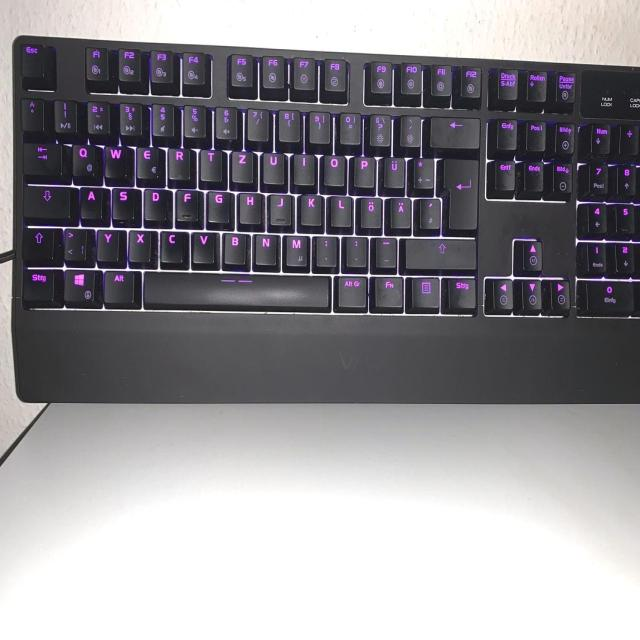0: (337, 108, 360, 143)
1: (51, 96, 76, 131)
2: (84, 97, 109, 134)
3: (117, 97, 141, 135)
4: (150, 99, 173, 135)
5: (181, 101, 205, 136)
6: (213, 103, 237, 138)
7: (244, 104, 268, 140)
8: (276, 105, 300, 141)
9: (306, 107, 329, 142)
a: (78, 183, 101, 218)
accent: (398, 111, 420, 145)
ae: (388, 193, 410, 227)
alt-left: (101, 266, 133, 301)
altgr-right: (334, 272, 366, 307)
b: (221, 228, 246, 263)
c: (157, 227, 185, 262)
caret: (19, 93, 42, 128)
comma: (313, 232, 336, 264)
d: (142, 184, 167, 219)
del: (428, 112, 479, 146)
e: (134, 143, 159, 178)
enter: (439, 155, 477, 228)
f: (174, 186, 198, 220)
g: (205, 187, 228, 221)
h: (236, 189, 260, 222)
hash: (417, 193, 439, 227)
i: (291, 150, 314, 183)
j: (267, 190, 290, 224)
k: (298, 190, 321, 223)
keyboard: (7, 37, 640, 324)
l: (328, 192, 351, 225)
less: (61, 224, 86, 260)
m: (282, 230, 307, 265)
minus: (373, 233, 395, 266)
n: (252, 230, 276, 263)
o: (320, 151, 344, 184)
oe: (358, 193, 381, 227)
p: (351, 153, 373, 185)
plus: (411, 154, 433, 187)
point: (344, 233, 366, 265)
q: (70, 140, 94, 176)
r: (166, 144, 189, 178)
s: (110, 183, 134, 219)
shift-left: (20, 224, 53, 261)
shift-lock: (22, 182, 71, 217)
shift-right: (402, 234, 474, 268)
space: (140, 268, 329, 307)
ss: (367, 110, 390, 145)
strg-left: (21, 265, 54, 300)
strg-right: (445, 274, 476, 309)
t: (198, 146, 221, 180)
tab: (21, 140, 60, 174)
u: (260, 149, 283, 182)
ue: (381, 153, 404, 186)
v: (189, 227, 214, 262)
w: (102, 142, 126, 178)
x: (126, 226, 150, 260)
y: (95, 225, 117, 260)
z: (229, 147, 252, 181)
